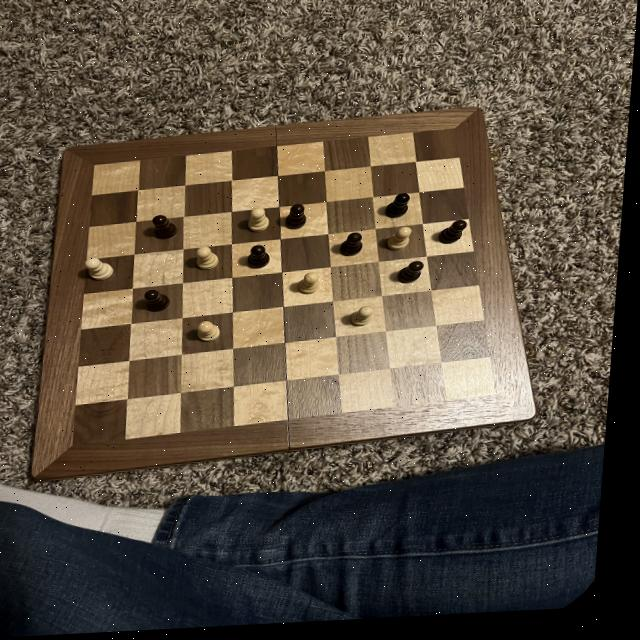black-knight: (439, 223, 473, 252), (385, 193, 415, 224), (153, 215, 184, 243), (341, 234, 370, 263), (286, 206, 312, 236), (250, 247, 276, 273), (402, 265, 429, 290)
white-knight: (144, 288, 178, 316), (87, 255, 120, 283), (388, 230, 416, 258), (197, 248, 227, 273), (249, 208, 276, 235), (200, 321, 228, 347), (300, 274, 327, 300), (354, 309, 380, 331)
